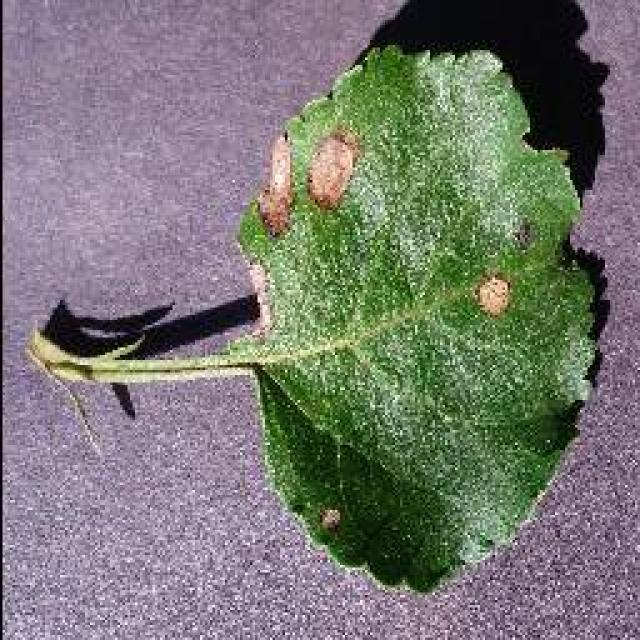apple healthy: (27, 0, 615, 595)
